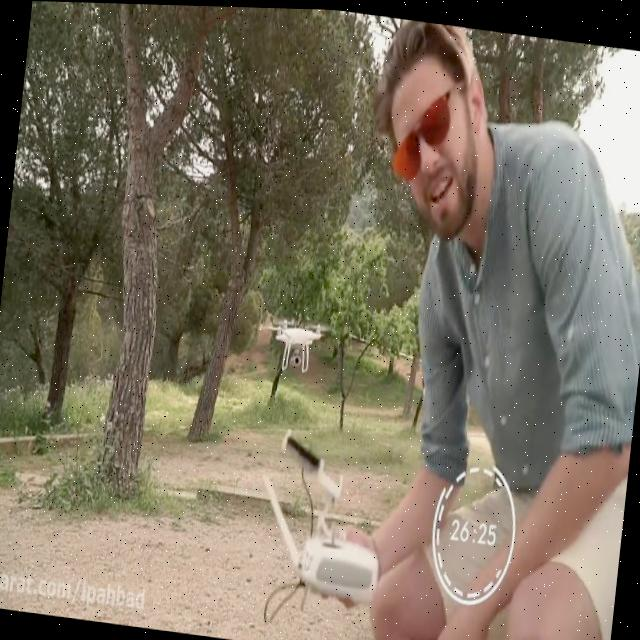drone: (260, 309, 334, 376)
